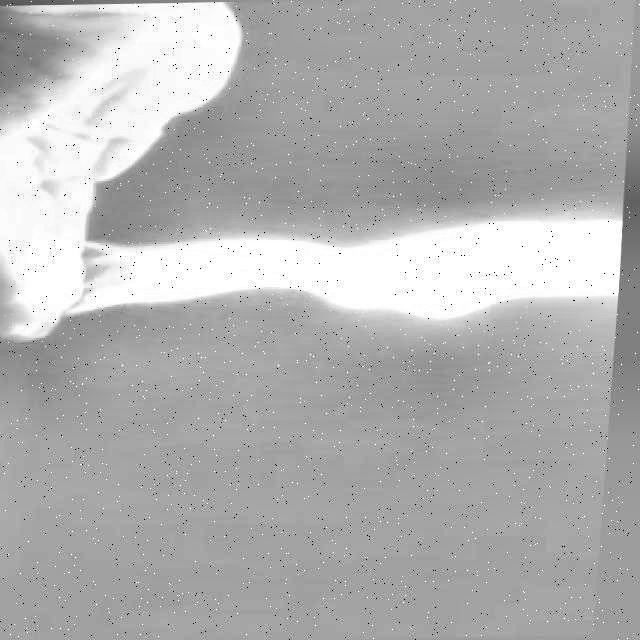Fire: (26, 196, 629, 336)
